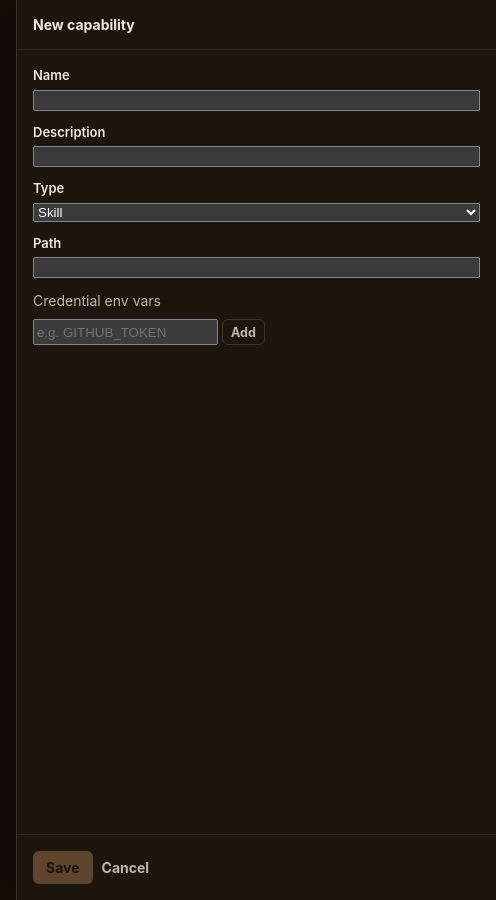
CapabilityEditor › switches to command/url fields for the mcp type
Select "MCP" in the dropdown labelled "Type": (256, 212) [33,202,480,222]
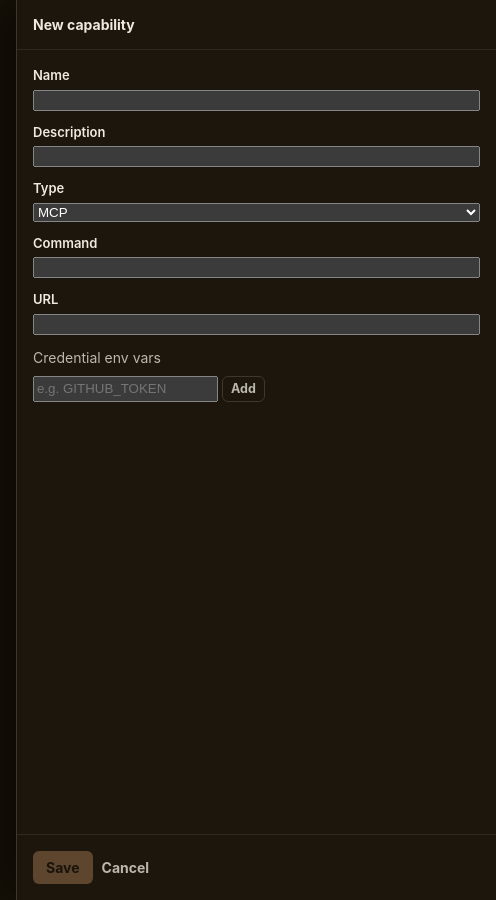
Now the text "Command" is shown, box [33,234,480,278]
Now the text "URL" is shown, box [33,290,480,334]
Now the text "Path" is gone
